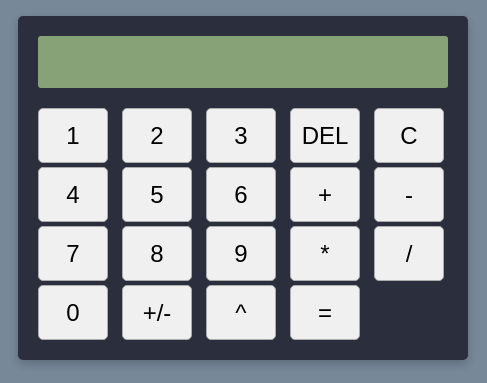
Scenario: operations test › sums two positive numbers
Click the button "1": (73, 136) [38,108,108,163]
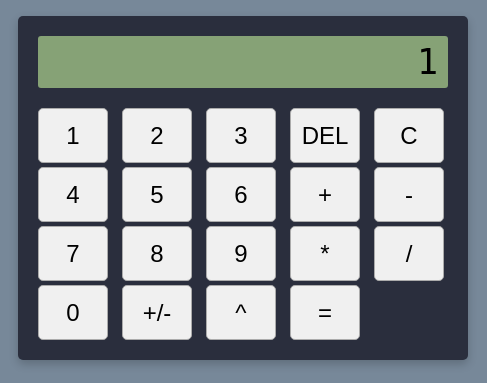
Click the button "+": (325, 194) [290,167,360,222]
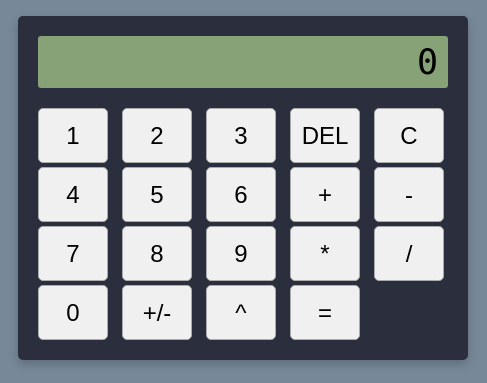
Click the button "7": (73, 254) [38,226,108,281]
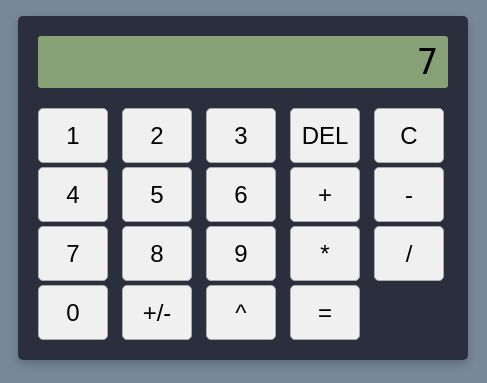
Click the button "=": (325, 312) [290,285,360,340]
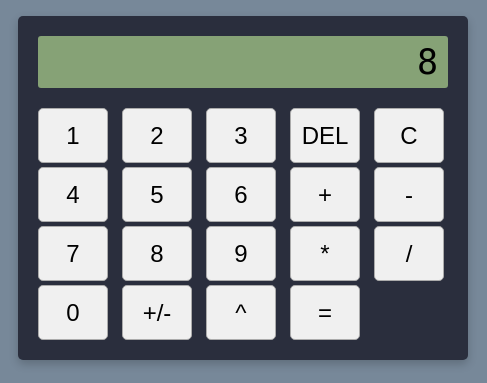
expect the text with test id "calculator-display" reads "8": met, box [417,42,438,82]
